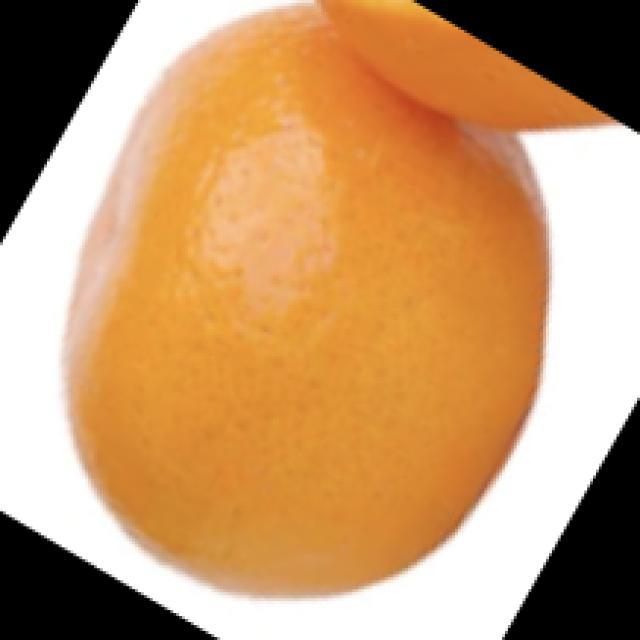Orange: (60, 1, 551, 599)
